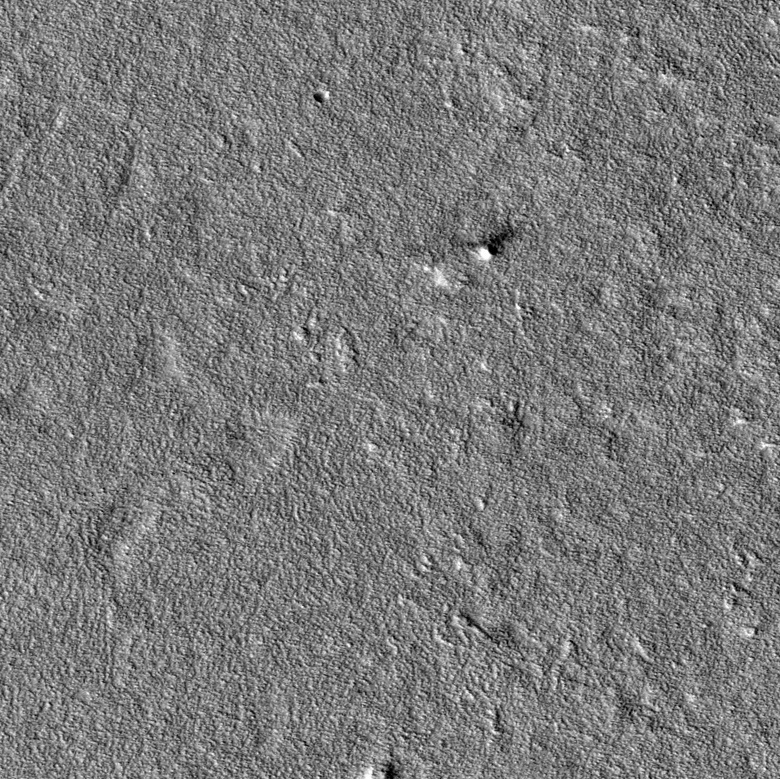dust_devil: (475, 227, 513, 264)
